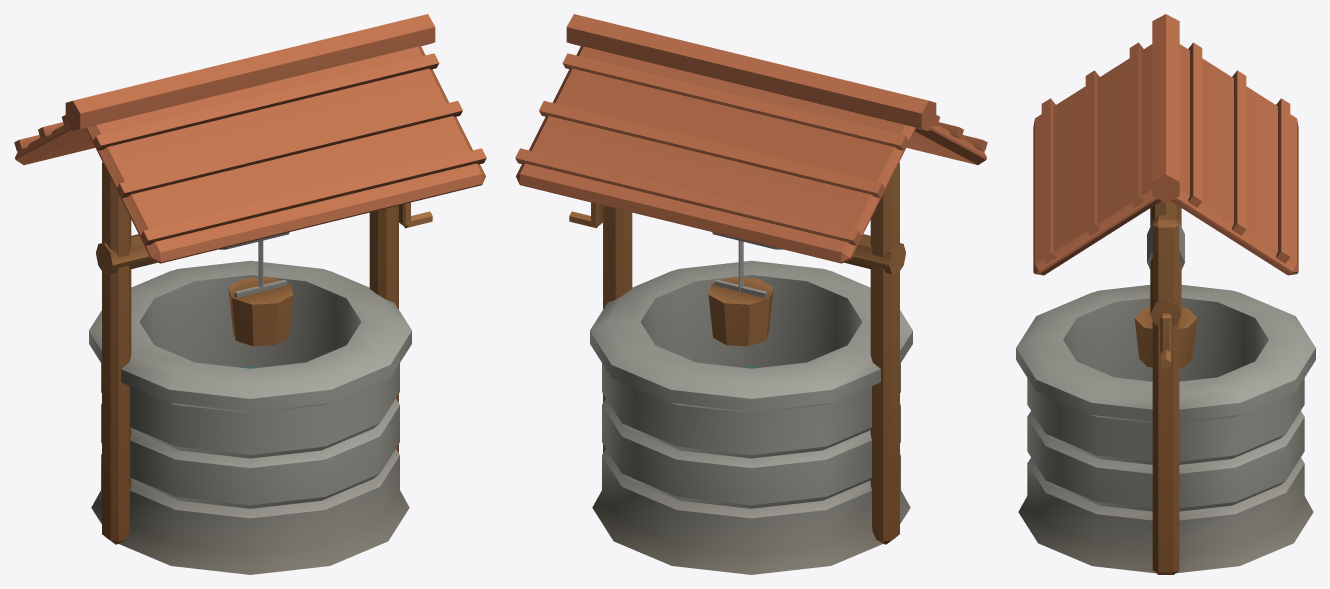
The model's file is sumur.glb.
3 views of the same model, side by side, from view 1: azimuth 30°, elevation 25°; view 2: azimuth 150°, elevation 25°; view 3: azimuth 270°, elevation 25° (orthographic). The views are drawn at different scales.
Parts seen in each view (by area): view 1: sumur_mesh; view 2: sumur_mesh; view 3: sumur_mesh.
Part boxes in pixels (x1,y1,x2,y2): sumur_mesh: (14, 14, 486, 574); sumur_mesh: (515, 14, 987, 574); sumur_mesh: (1016, 14, 1315, 574).
Bounding box in the file's own units: 1.71 × 2.06 × 1.34.
